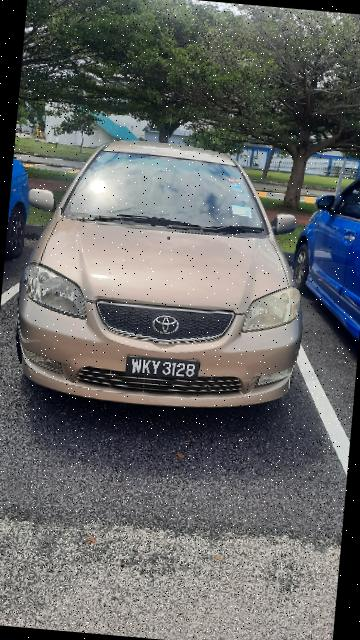License_Plate: (121, 348, 203, 387)
car: (7, 125, 325, 422)
